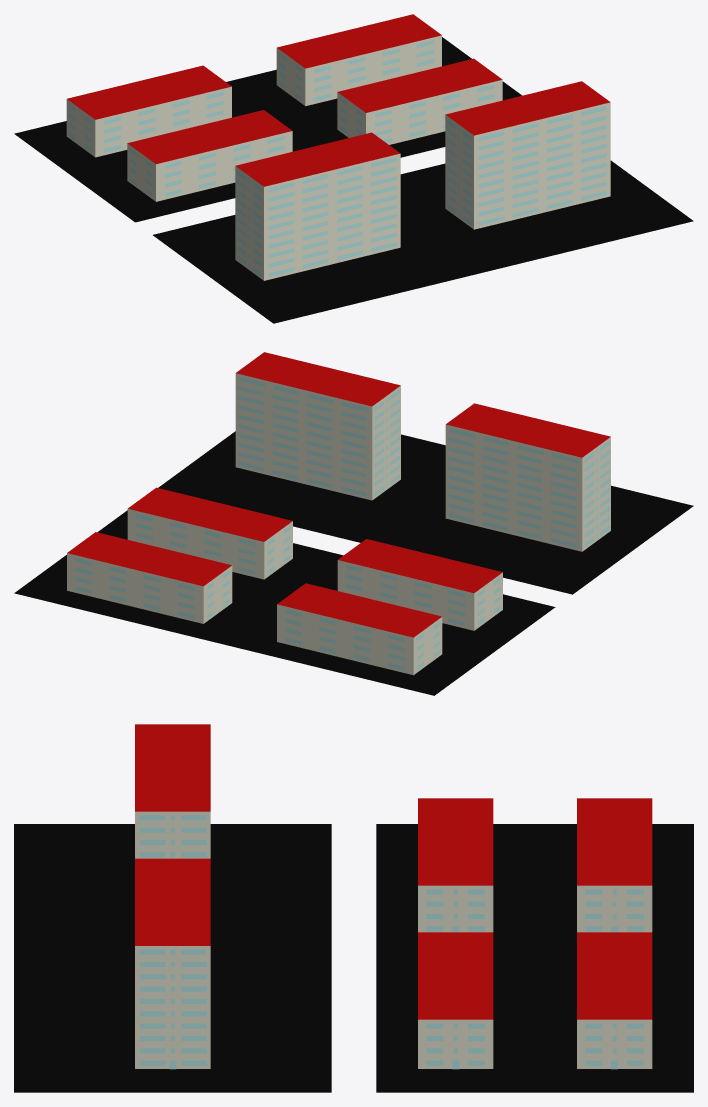
3 views of the same model, one above another, from view 1: azimuth 30°, elevation 25°; view 2: azimuth 150°, elevation 25°; view 3: azimuth 270°, elevation 25° (orthographic). The views are drawn at different scales.
Parts seen in each view (by area): view 1: Walls, Ground, Roofs, Windows; view 2: Walls, Ground, Roofs, Windows; view 3: Ground, Roofs, Walls, Windows.
Boxes of the visible parts, x1,y1,x2,y2 form: Walls: [66, 35, 610, 280]; Ground: [14, 37, 693, 323]; Roofs: [67, 14, 610, 186]; Windows: [69, 40, 606, 276]; Walls: [67, 373, 610, 675]; Ground: [14, 431, 693, 695]; Roofs: [67, 352, 610, 637]; Windows: [75, 377, 610, 670]; Ground: [14, 824, 693, 1092]; Roofs: [135, 724, 652, 1019]; Walls: [135, 811, 652, 1068]; Windows: [139, 815, 643, 1069].
Size of the model in its own units: 142 by 30.48 by 152.
